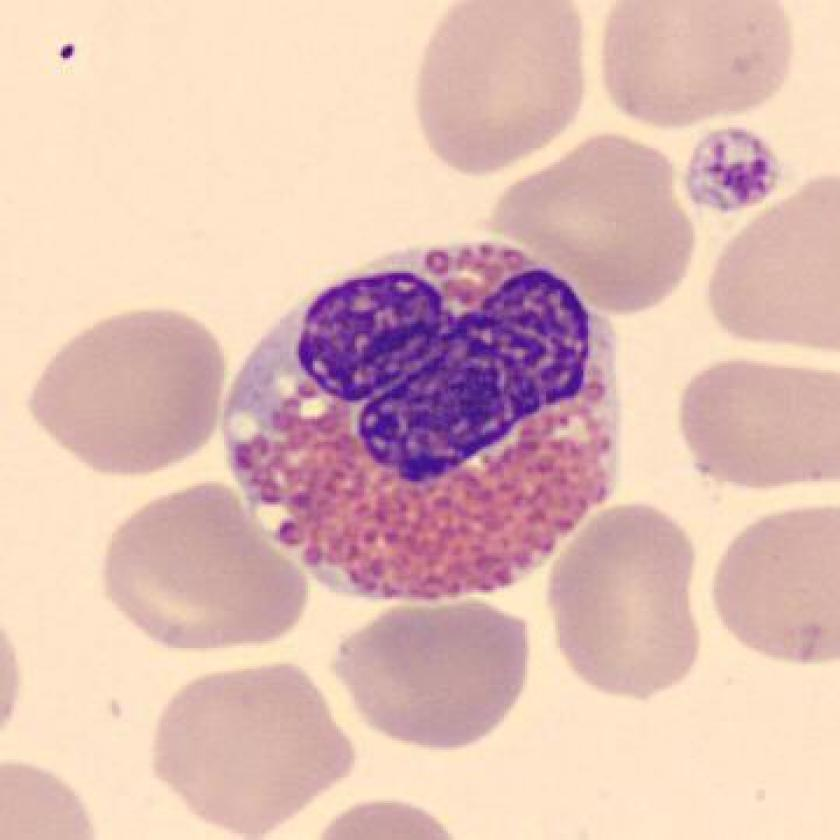eosinophil: (211, 228, 640, 617)
